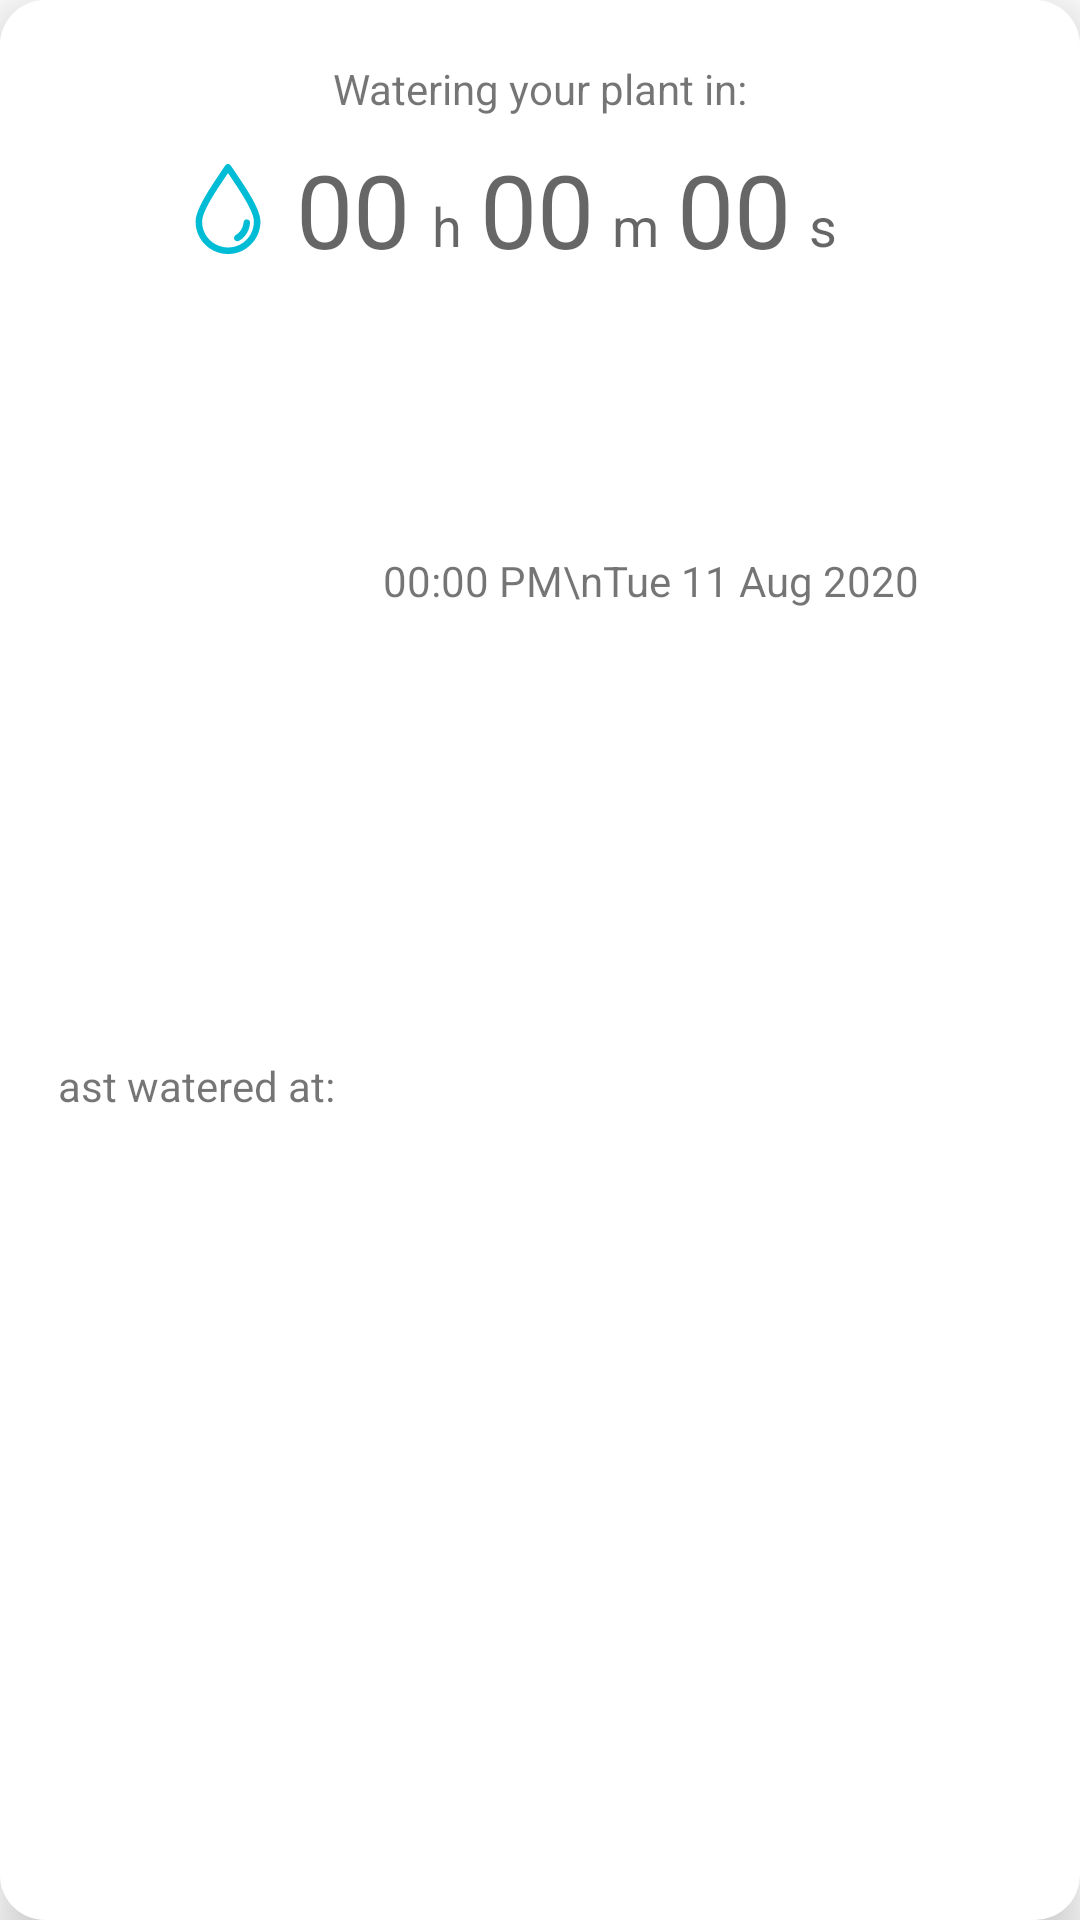

Screen size 1080*1920. Icon name, then its center in pixels as [x,y]:
water droplet: [228,209]
